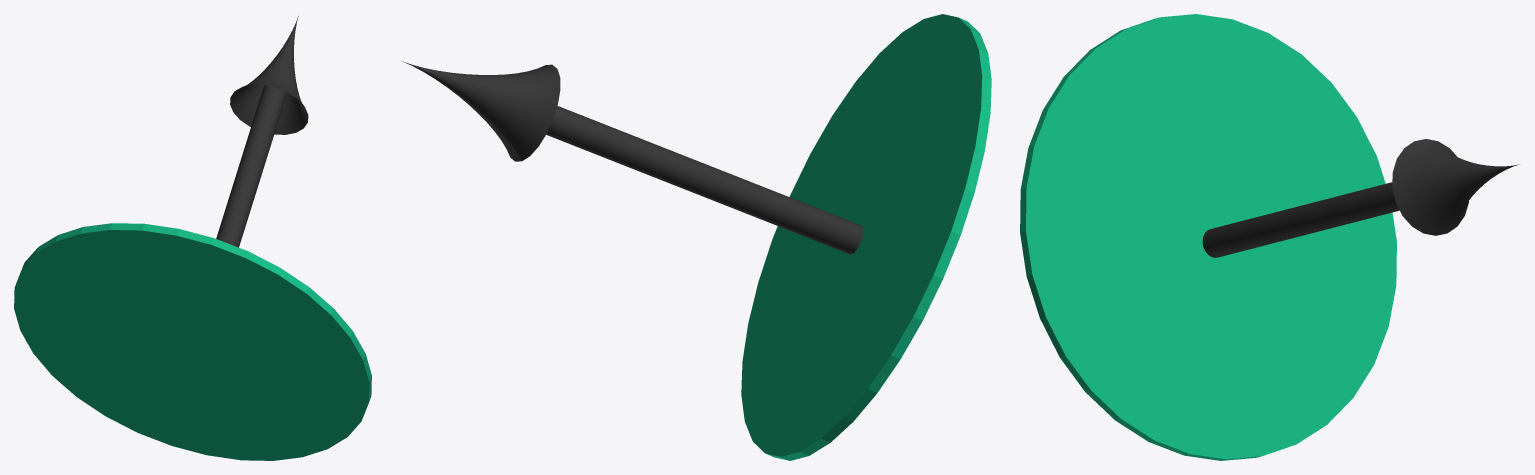
The model's file is 06_Area vector for surface.glb.
3 views of the same model, side by side, from view 1: azimuth 30°, elevation 25°; view 2: azimuth 150°, elevation 25°; view 3: azimuth 270°, elevation 25° (orthographic). The views are drawn at different scales.
Parts seen in each view (by area): view 1: Cylinder, Cylinder.002; view 2: Cylinder, Cylinder.002; view 3: Cylinder, Cylinder.002.
Part boxes in pixels (box(x1,y1,x2,y2)): Cylinder: box(14, 223, 371, 460); Cylinder.002: box(216, 16, 308, 247); Cylinder: box(741, 14, 991, 460); Cylinder.002: box(402, 61, 863, 254); Cylinder: box(1020, 14, 1396, 460); Cylinder.002: box(1202, 139, 1519, 257).
Size of the model in its own units: 2.21 by 1.92 by 2.22.
